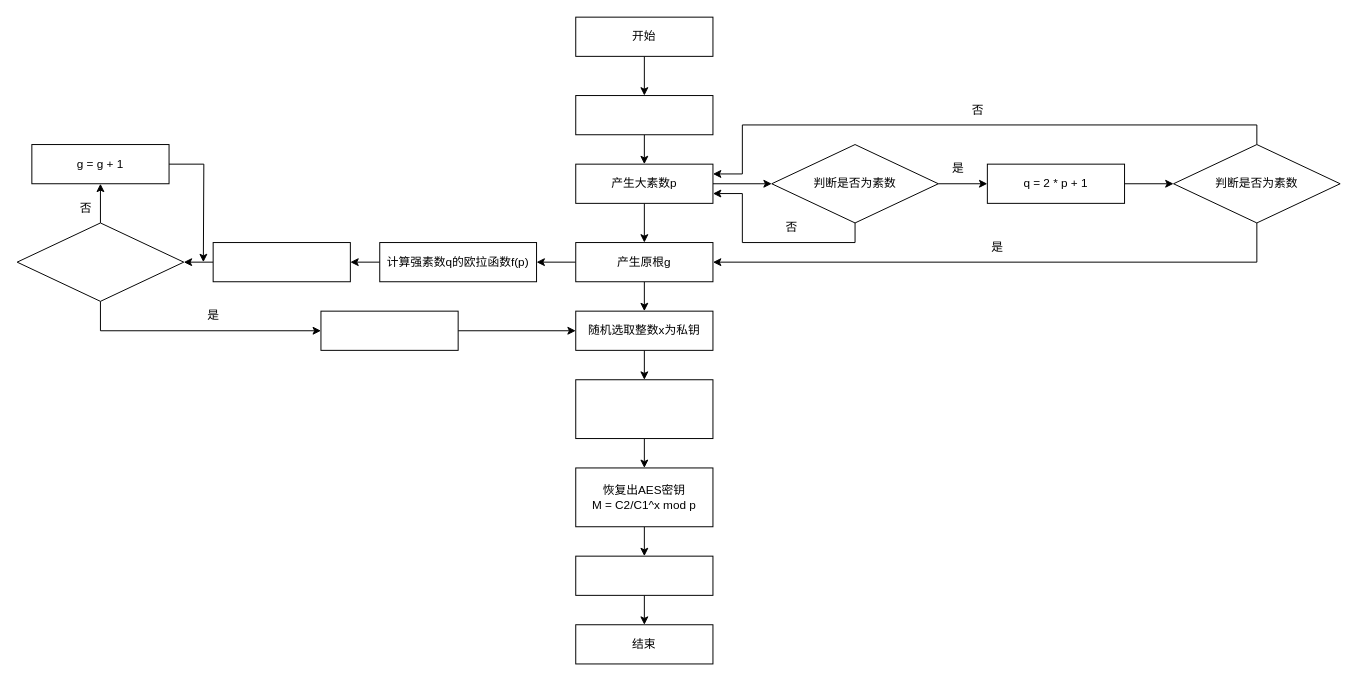
This 1357x681 diagram has some shape labels left out. Each missing label, with the centre of its shape:
g^f(p) = 1 (mod p): (x=100, y=261)
g就是这个原根: (x=389, y=330)
初始化原根 g = 2: (x=281, y=262)
判断是否正确: (x=644, y=575)
计算密文C1、C2 C1 = g^k mod p C1 = y^k M mod p: (x=644, y=409)
输入AES密钥M: (x=644, y=115)
